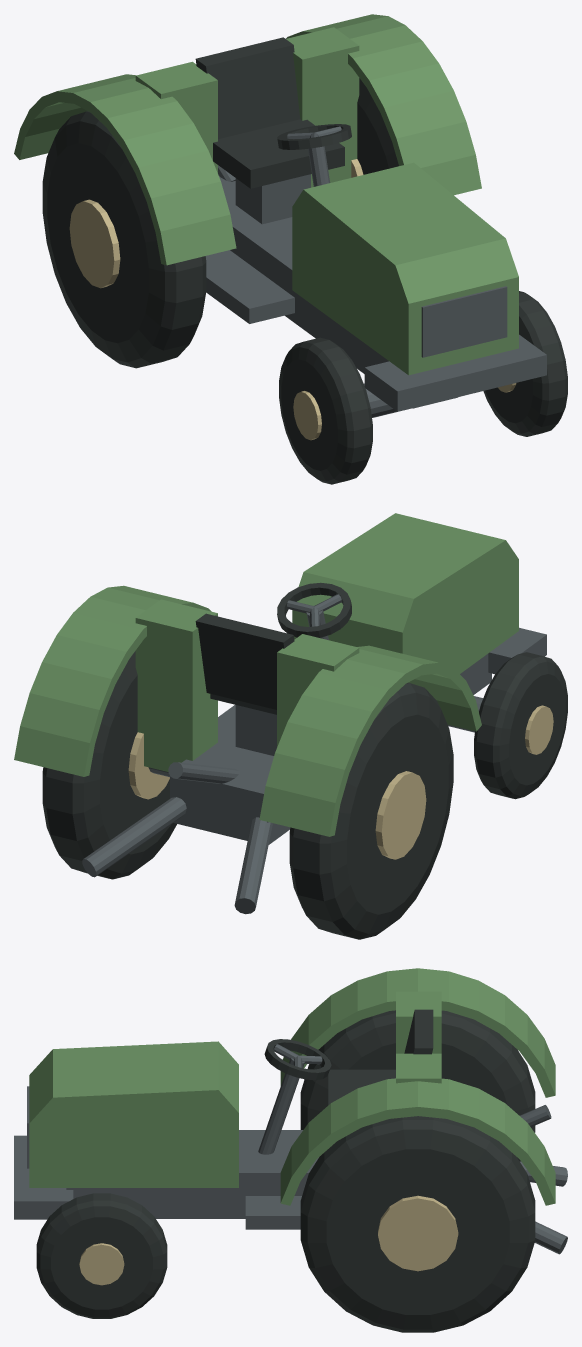
3 views of the same model, one above another, from view 1: azimuth 30°, elevation 25°; view 2: azimuth 150°, elevation 25°; view 3: azimuth 270°, elevation 25° (orthographic). The views are drawn at different scales.
Parts seen in each view (by area): view 1: WholeLowSlopingEngineBonnet, RearWholeRoundedTyre0, WholeArchedRearMudguard0, WholeArchedRearMudguard1, FrontWholeRoundedTyre0, WholeBackwardSlopedSeatBack, WholeFrontCrossBumper, WholeMudguardInnerStay1, WholeLowChassisAndRearDifferential, FrontWholeRoundedTyre1, WholeOperatorSeatCushion, WholeInsetFrontGrille (+8 smaller); view 2: WholeLowSlopingEngineBonnet, RearWholeRoundedTyre0, WholeArchedRearMudguard0, WholeArchedRearMudguard1, RearWholeRoundedTyre1, WholeMudguardInnerStay1, FrontWholeRoundedTyre0, WholeLowChassisAndRearDifferential, WholeBackwardSlopedSeatBack, WholeMudguardInnerStay0, RearWholeProudHub0, WholeRearLowerLinkArm1 (+7 smaller); view 3: RearWholeRoundedTyre1, WholeLowSlopingEngineBonnet, FrontWholeRoundedTyre1, WholeArchedRearMudguard1, RearWholeRoundedTyre0, WholeArchedRearMudguard0, WholeLowChassisAndRearDifferential, RearWholeProudHub1, WholeFrontCrossBumper, WholeMudguardInnerStay0, WholeSideStepPlatform1, FrontWholeProudHub1 (+6 smaller).
Part boxes in pixels (x1=…): WholeLowSlopingEngineBonnet: x1=292, y1=162, x2=518, y2=375; RearWholeRoundedTyre0: x1=42, y1=111, x2=206, y2=368; WholeArchedRearMudguard0: x1=14, y1=74, x2=236, y2=265; WholeArchedRearMudguard1: x1=286, y1=14, x2=481, y2=195; FrontWholeRoundedTyre0: x1=279, y1=337, x2=372, y2=484; WholeBackwardSlopedSeatBack: x1=195, y1=37, x2=300, y2=139; WholeFrontCrossBumper: x1=364, y1=334, x2=546, y2=411; WholeMudguardInnerStay1: x1=286, y1=27, x2=359, y2=187; WholeLowChassisAndRearDifferential: x1=219, y1=176, x2=388, y2=373; FrontWholeRoundedTyre1: x1=483, y1=291, x2=567, y2=436; WholeOperatorSeatCushion: x1=213, y1=119, x2=344, y2=188; WholeInsetFrontGrille: x1=421, y1=286, x2=507, y2=357; WholeLowSlopingEngineBonnet: x1=292, y1=513, x2=518, y2=673; RearWholeRoundedTyre0: x1=289, y1=682, x2=453, y2=939; WholeArchedRearMudguard0: x1=259, y1=645, x2=481, y2=836; WholeArchedRearMudguard1: x1=14, y1=585, x2=211, y2=776; RearWholeRoundedTyre1: x1=42, y1=651, x2=176, y2=879; WholeMudguardInnerStay1: x1=135, y1=599, x2=217, y2=771; FrontWholeRoundedTyre0: x1=474, y1=652, x2=567, y2=799; WholeLowChassisAndRearDifferential: x1=170, y1=654, x2=491, y2=844; WholeBackwardSlopedSeatBack: x1=195, y1=613, x2=294, y2=709; WholeMudguardInnerStay0: x1=277, y1=634, x2=359, y2=747; RearWholeProudHub0: x1=375, y1=771, x2=426, y2=859; WholeRearLowerLinkArm1: x1=82, y1=797, x2=186, y2=877; RearWholeRoundedTyre1: x1=300, y1=1116, x2=535, y2=1332; WholeLowSlopingEngineBonnet: x1=29, y1=1041, x2=238, y2=1187; FrontWholeRoundedTyre1: x1=36, y1=1193, x2=167, y2=1318; WholeArchedRearMudguard1: x1=280, y1=1078, x2=555, y2=1205; RearWholeRoundedTyre0: x1=300, y1=1010, x2=535, y2=1161; WholeArchedRearMudguard0: x1=280, y1=968, x2=555, y2=1097; WholeLowChassisAndRearDifferential: x1=66, y1=1130, x2=318, y2=1218; RearWholeProudHub1: x1=378, y1=1195, x2=458, y2=1271; WholeFrontCrossBumper: x1=14, y1=1135, x2=73, y2=1219; WholeMudguardInnerStay0: x1=396, y1=991, x2=441, y2=1053; WholeSideStepPlatform1: x1=245, y1=1196, x2=301, y2=1229; FrontWholeProudHub1: x1=79, y1=1243, x2=124, y2=1285.
Bounding box in the file's own units: 1.94 × 1.59 × 3.28.
